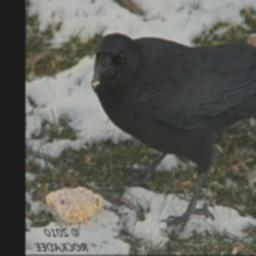Crow: (91, 32, 256, 231)
